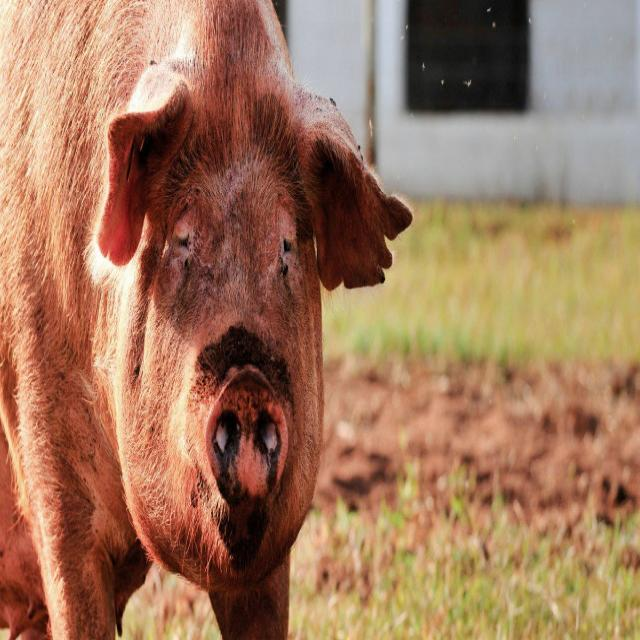pig: (1, 0, 413, 639)
